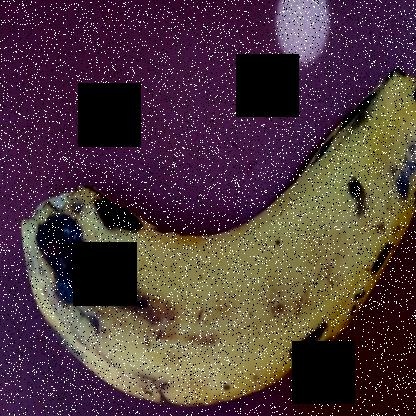overripe: (12, 58, 415, 412)
